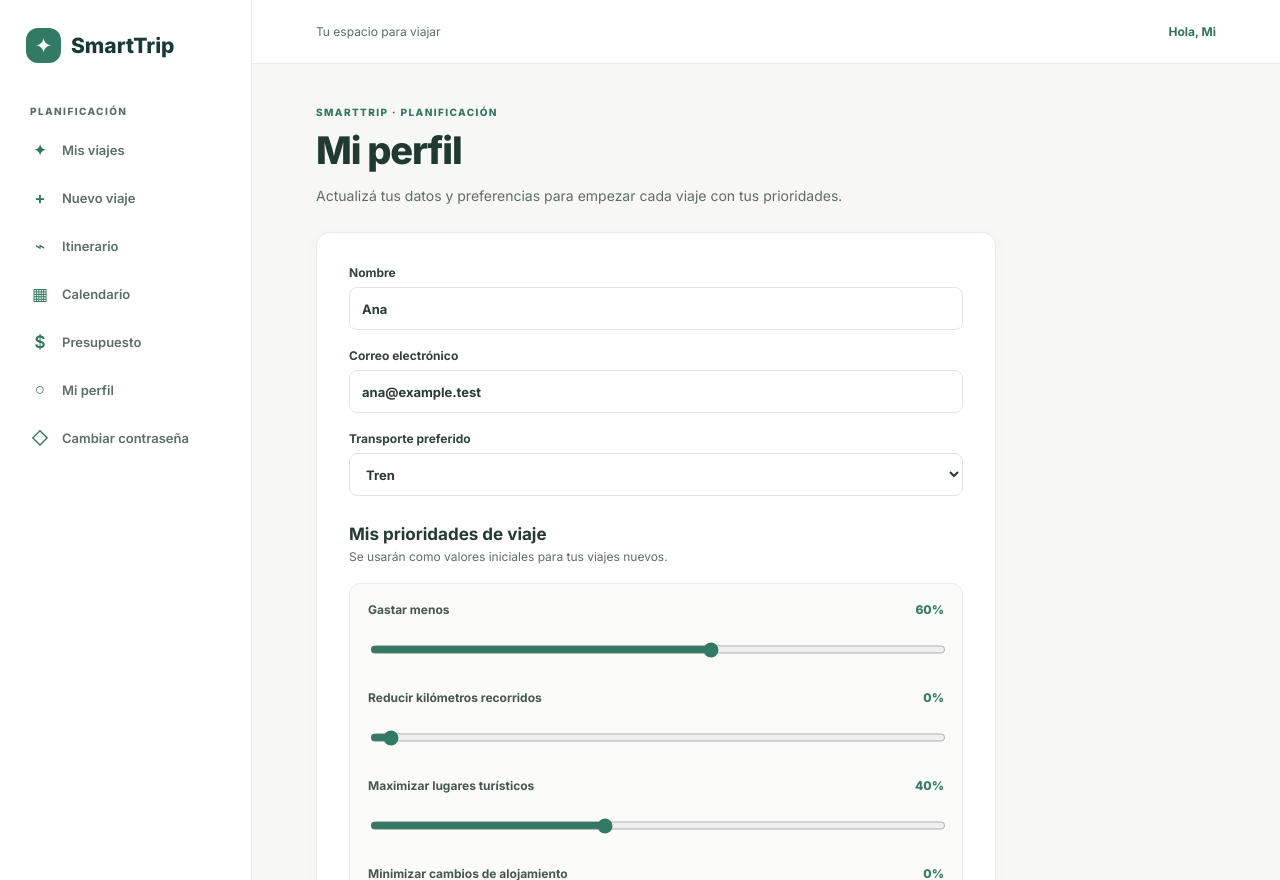
Pantallas de viaje › cambia el correo del perfil pidiendo la contraseña actual (DEF-20)
The image size is (1280, 880).
Expected: the field labelled "Contraseña actual" is not shown
Replace the text in the field labelled "Correo electrónico" with "Ana.Nueva@example.test". click: (656, 392)
box: [349, 370, 963, 413]
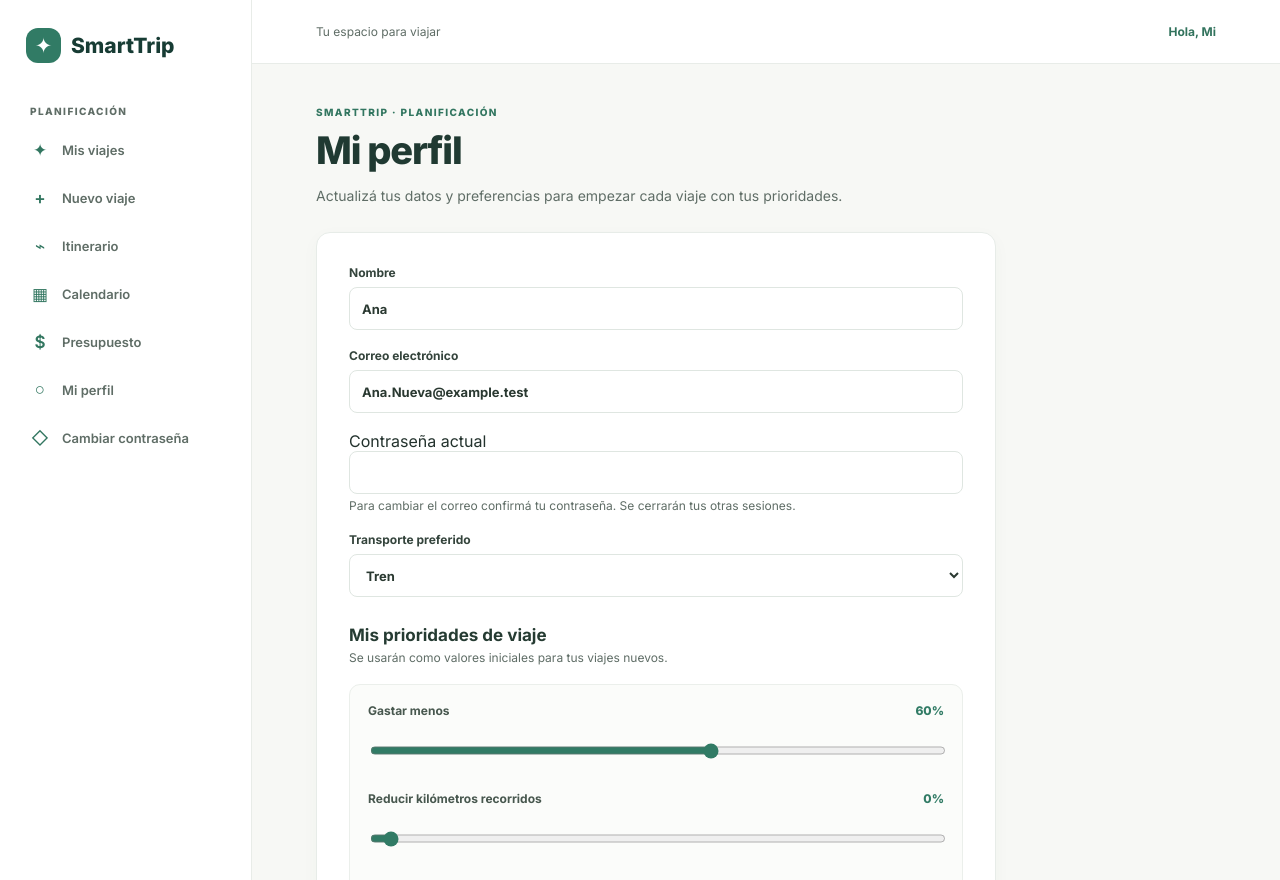
Type "mi clave actual segura" into the password field labelled "Contraseña actual". click: (656, 472)
box: [349, 451, 963, 494]
(page scrolled)
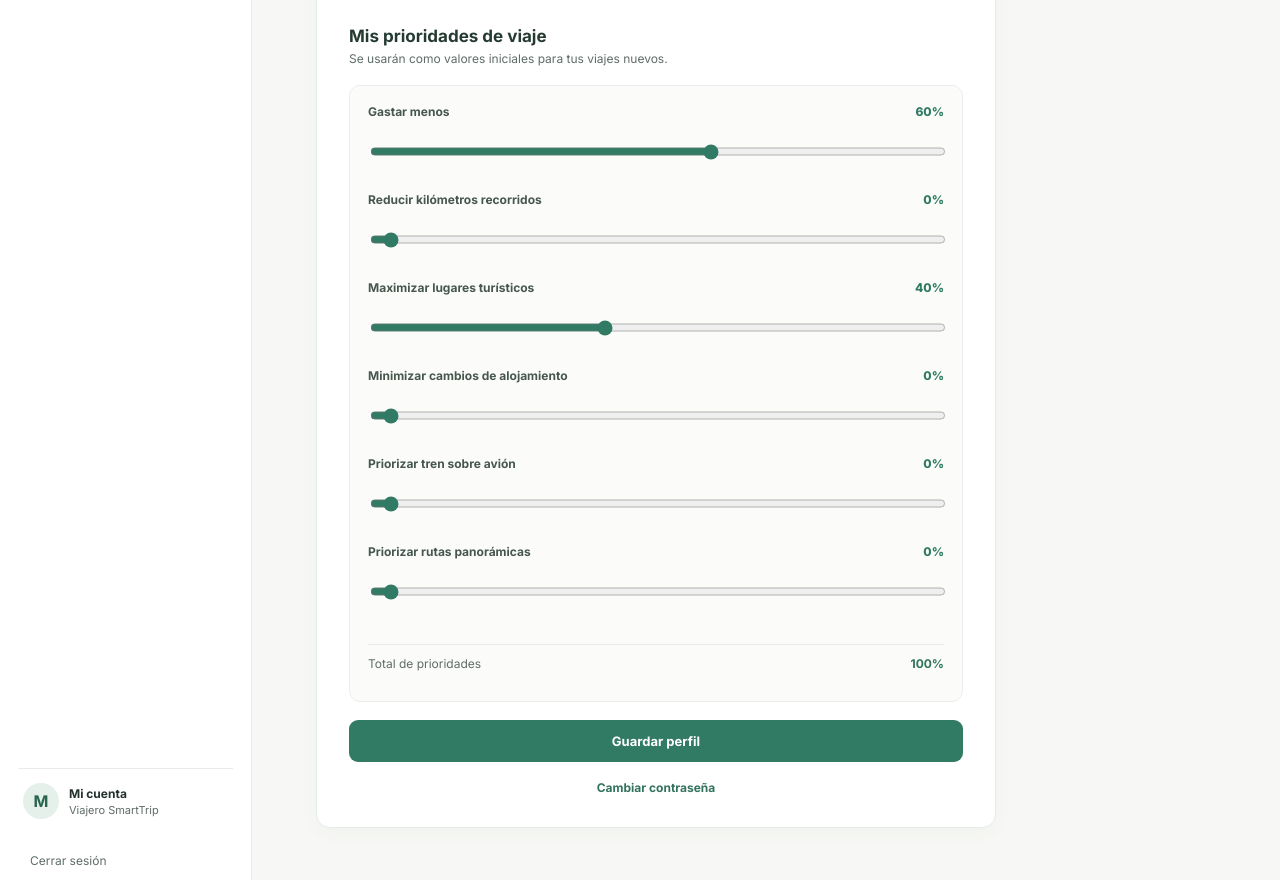
Click the button "Guardar perfil". click: (656, 741)
box: [349, 720, 963, 762]
(page scrolled)
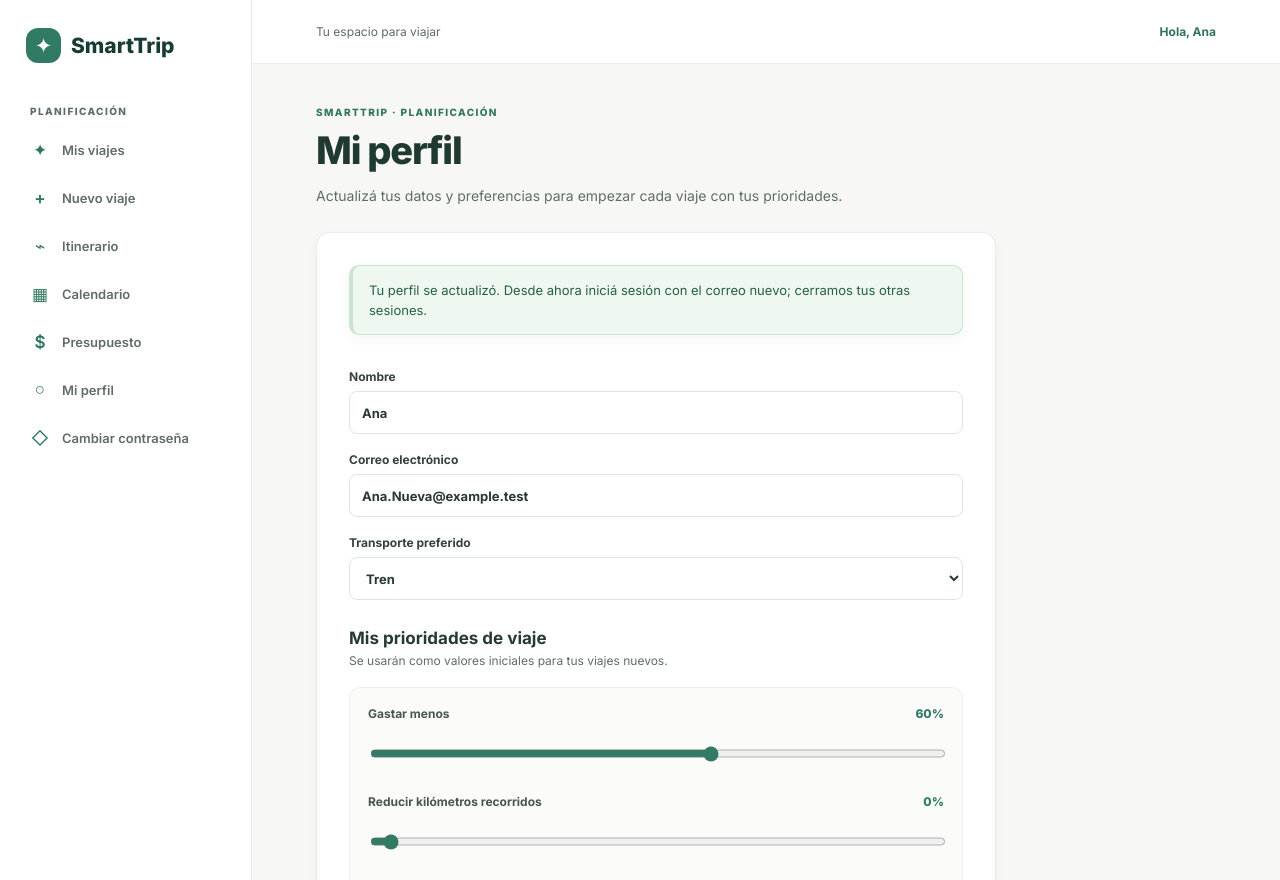
Expected: the text "iniciá sesión con el correo nuevo" is shown, [369, 282, 910, 318]
